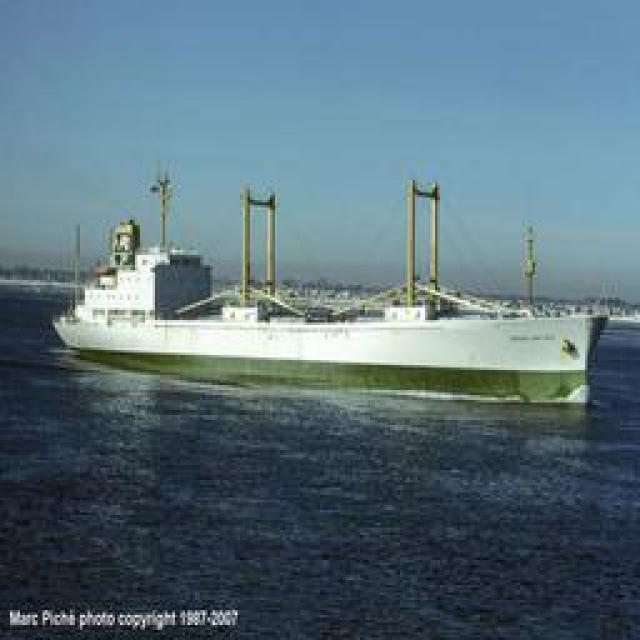Ship: (62, 205, 620, 415)
